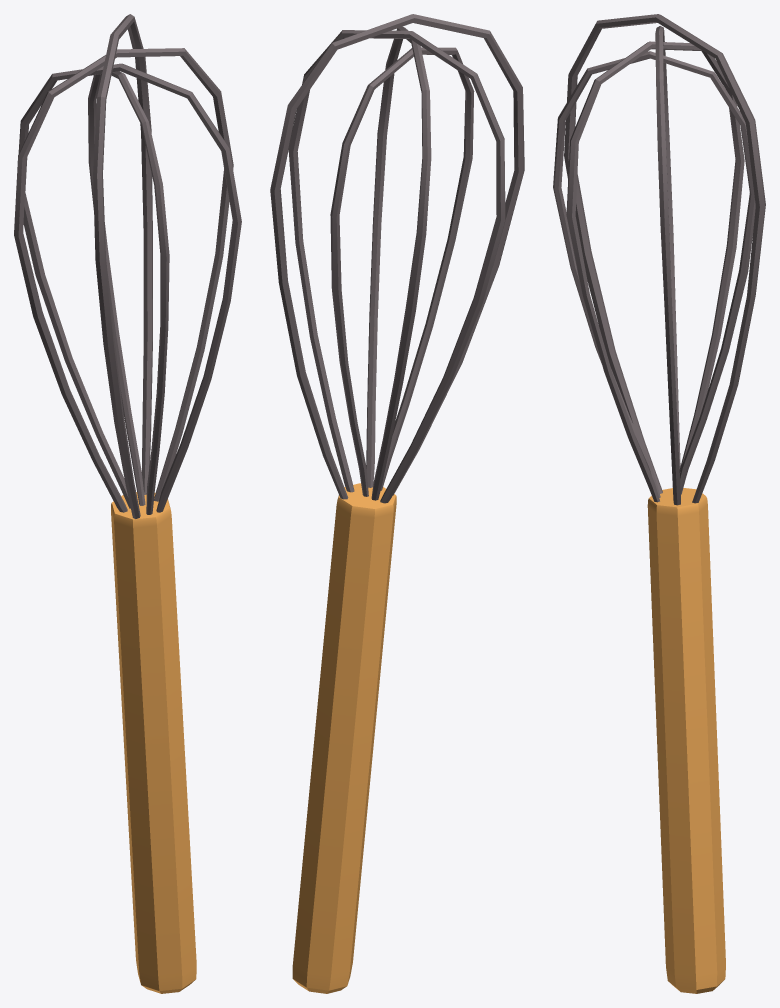
Rendered from whisk.fbx.
3 views of the same model, side by side, from view 1: azimuth 30°, elevation 25°; view 2: azimuth 150°, elevation 25°; view 3: azimuth 270°, elevation 25° (orthographic). The views are drawn at different scales.
Visible parts, largest first — view 1: whisk; view 2: whisk; view 3: whisk.
Part boxes in pixels (left/top/right/bottom): whisk: left=14, top=14, right=241, bottom=993; whisk: left=270, top=14, right=524, bottom=993; whisk: left=553, top=14, right=765, bottom=993.
Size of the model in its own units: 5.89 by 25.27 by 5.19.
